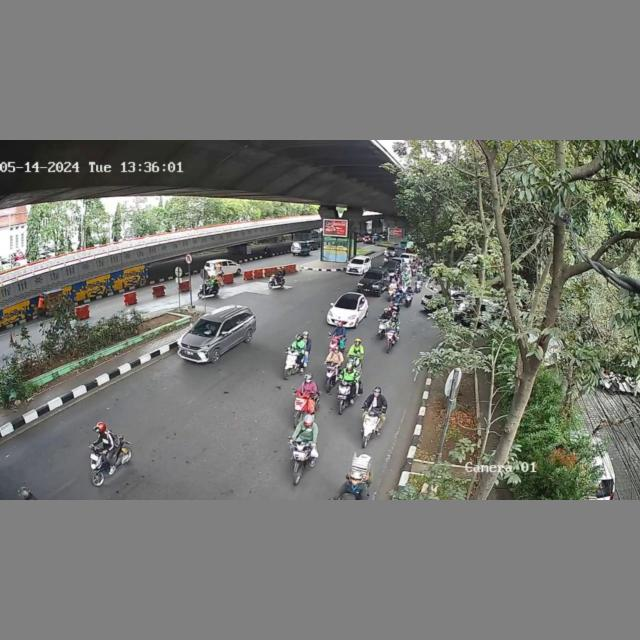windshield: (189, 318, 223, 337), (333, 296, 359, 311)
